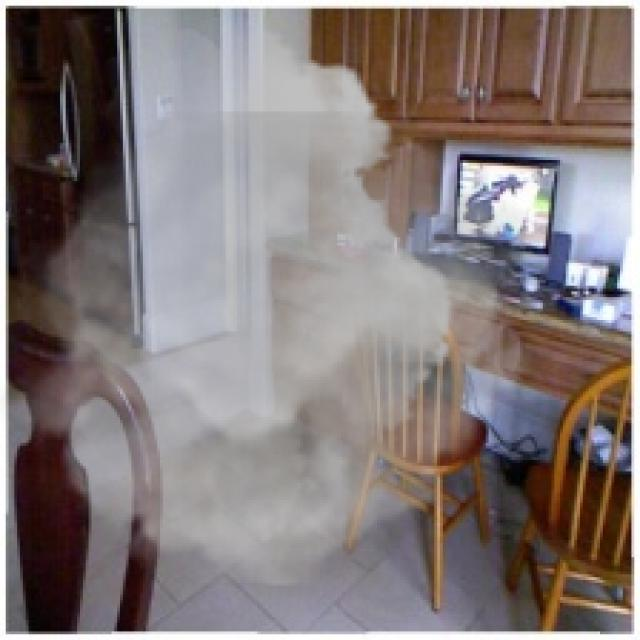smoke: (0, 17, 555, 586)
